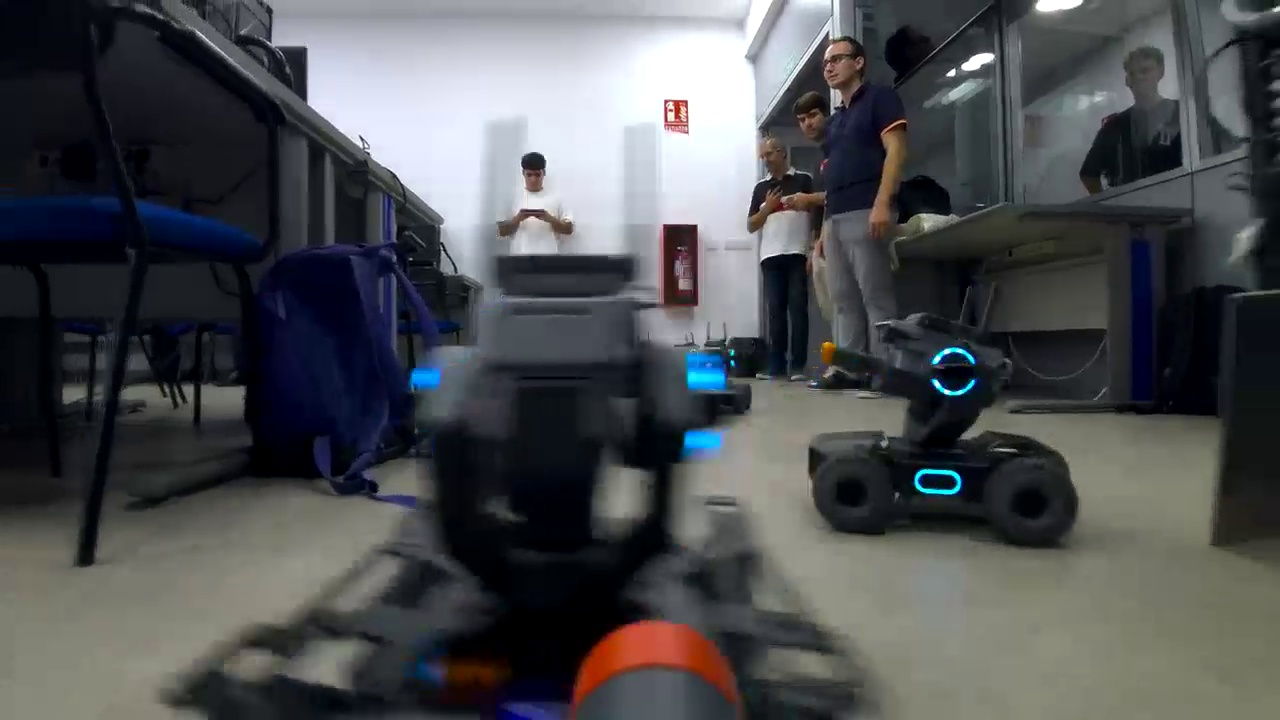robot: (145, 247, 879, 720), (802, 304, 1087, 544), (641, 325, 770, 460)
